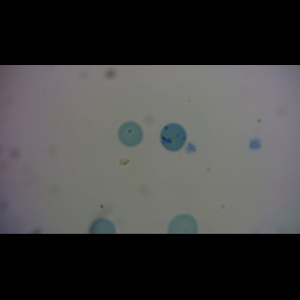aggregate reticulocyte: (159, 123, 187, 152)
erythrocyte: (117, 120, 145, 147)
